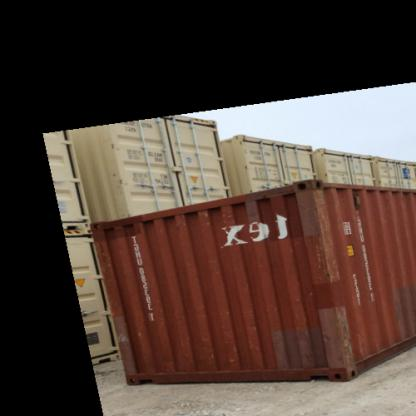Damage: (296, 182, 337, 238), (324, 308, 359, 364), (308, 235, 342, 279), (224, 337, 259, 356), (217, 202, 237, 228), (198, 207, 213, 229)
